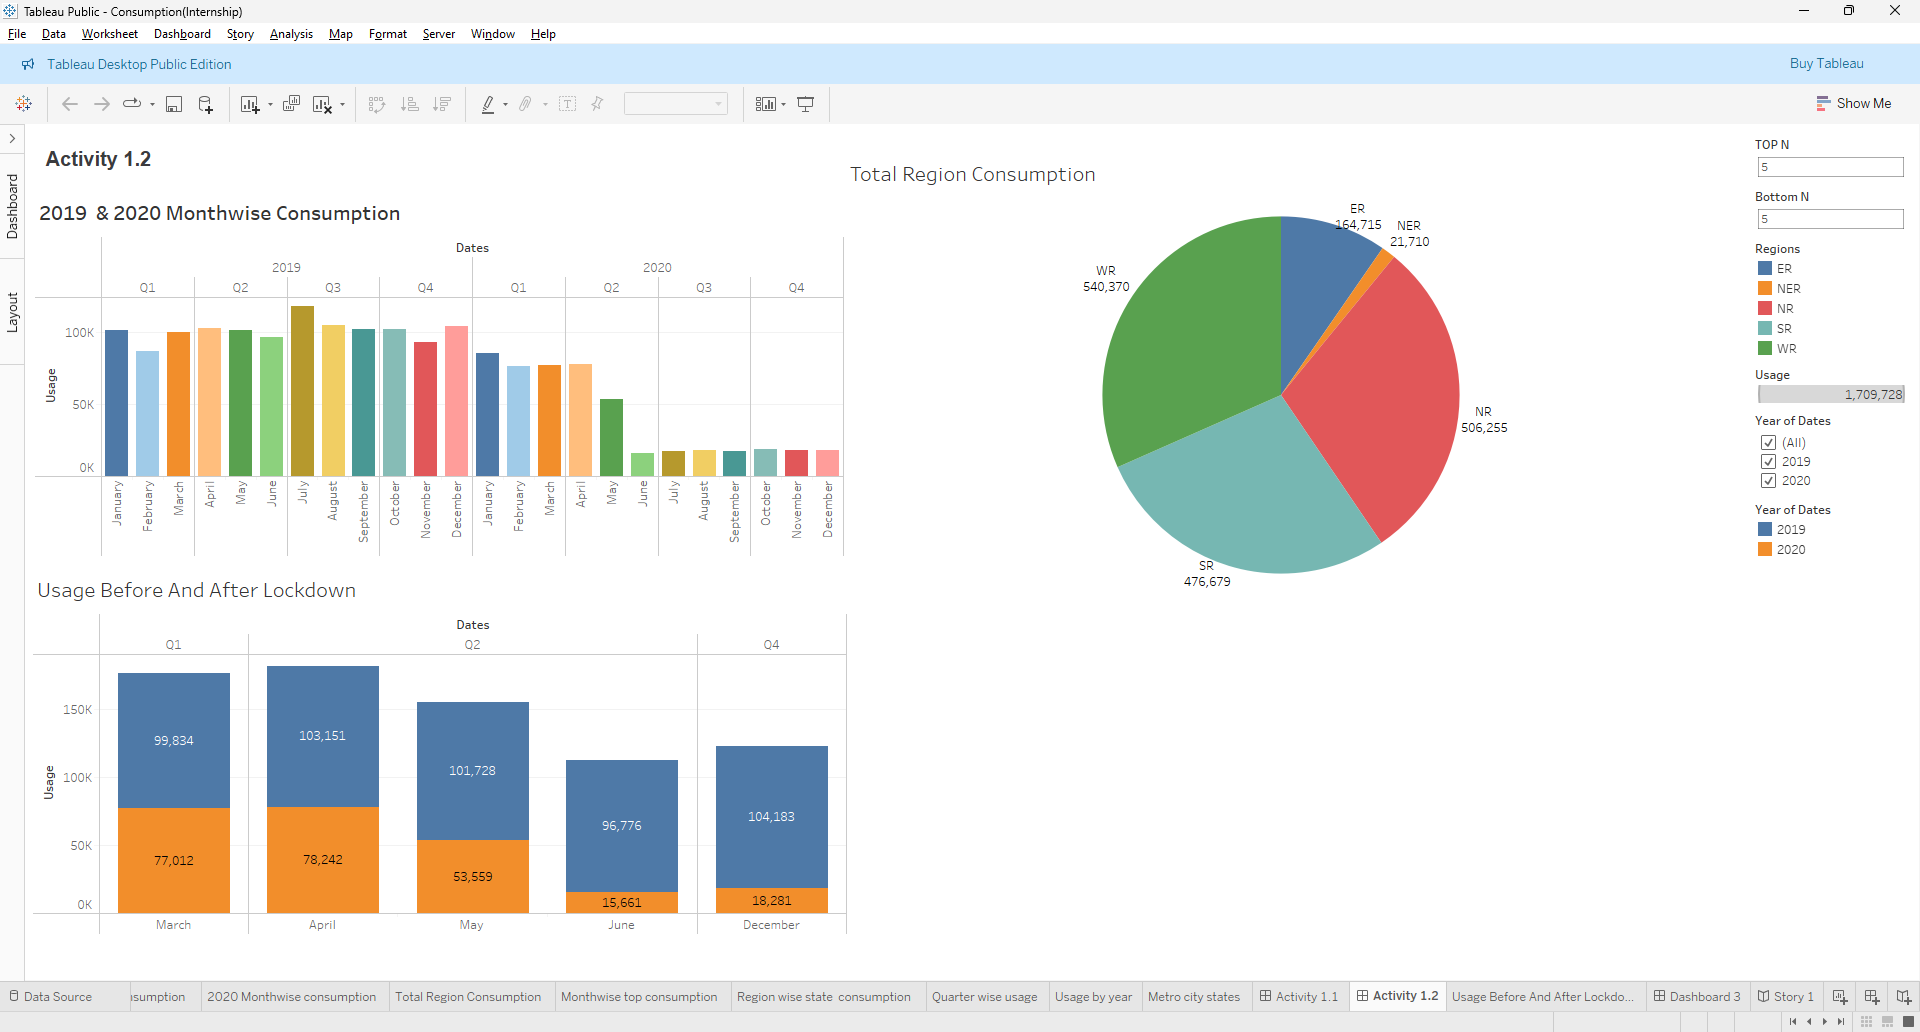

This screenshot's page, from the dashboard's own definition file:
{"tool":"tableau","page":{"name":"Activity 1.2","canvas":[1000,1000],"units":"permille","ordinal":1},"visuals":[{"type":"parameter","param":"[Parameters].[Parameter 1]","box":[901.2,9.3,94.1,60.8]},{"type":"text","box":[9.4,23.4,90.5,35.1]},{"type":"worksheet","title":"Total Region Consumption","mark":"Pie","box":[433.3,36.2,459.1,510.5]},{"type":"parameter","param":"[Parameters].[Parameter 2]","box":[901.2,70.1,94.1,60.8]},{"type":"worksheet","title":"2020 Monthwise consumption","mark":"Bar","rows":["Usage"],"cols":["Dates","Dates","Dates"],"box":[5.3,81.8,427.4,424.1]},{"type":"legend","title":"Total Region Consumption","param":"[federated.0mln1pv09h2lre16xwj060pckrwt].[none:Regions:nk]","box":[901.2,130.8,94.1,147.2]},{"type":"legend","title":"Total Region Consumption","param":"[federated.0mln1pv09h2lre16xwj060pckrwt].[sum:Usage:qk]","box":[901.2,278.1,94.1,53.7]},{"type":"filter","title":"2020 Monthwise consumption","param":"[federated.0mln1pv09h2lre16xwj060pckrwt].[yr:Dates:ok]","box":[901.2,331.8,94.1,104]},{"type":"legend","title":"Usage Before And After Lockdown","param":"[federated.0mln1pv09h2lre16xwj060pckrwt].[yr:Dates:ok]","box":[901.2,435.8,94.1,77.1]},{"type":"worksheet","title":"Usage Before And After Lockdown","mark":"Bar","rows":["Usage"],"cols":["Dates","Dates"],"box":[4.1,522.2,429.8,425.2]}]}

Visuals, with their boxes on the dashboard's canvas, which has no fixed pixel size, in thousandths of its width and height (x1, y1, x2, y2). These are canvas units, not pixel positions in the 1920x1032 screenshot, which may show the page scaled, cropped or inside an application window:
parameter: region(901, 9, 995, 70)
text: region(9, 23, 100, 58)
"Total Region Consumption" worksheet (Pie marks): region(433, 36, 892, 547)
parameter: region(901, 70, 995, 131)
"2020 Monthwise consumption" worksheet (Bar marks): region(5, 82, 433, 506)
"Total Region Consumption" legend: region(901, 131, 995, 278)
"Total Region Consumption" legend: region(901, 278, 995, 332)
"2020 Monthwise consumption" filter: region(901, 332, 995, 436)
"Usage Before And After Lockdown" legend: region(901, 436, 995, 513)
"Usage Before And After Lockdown" worksheet (Bar marks): region(4, 522, 434, 947)
